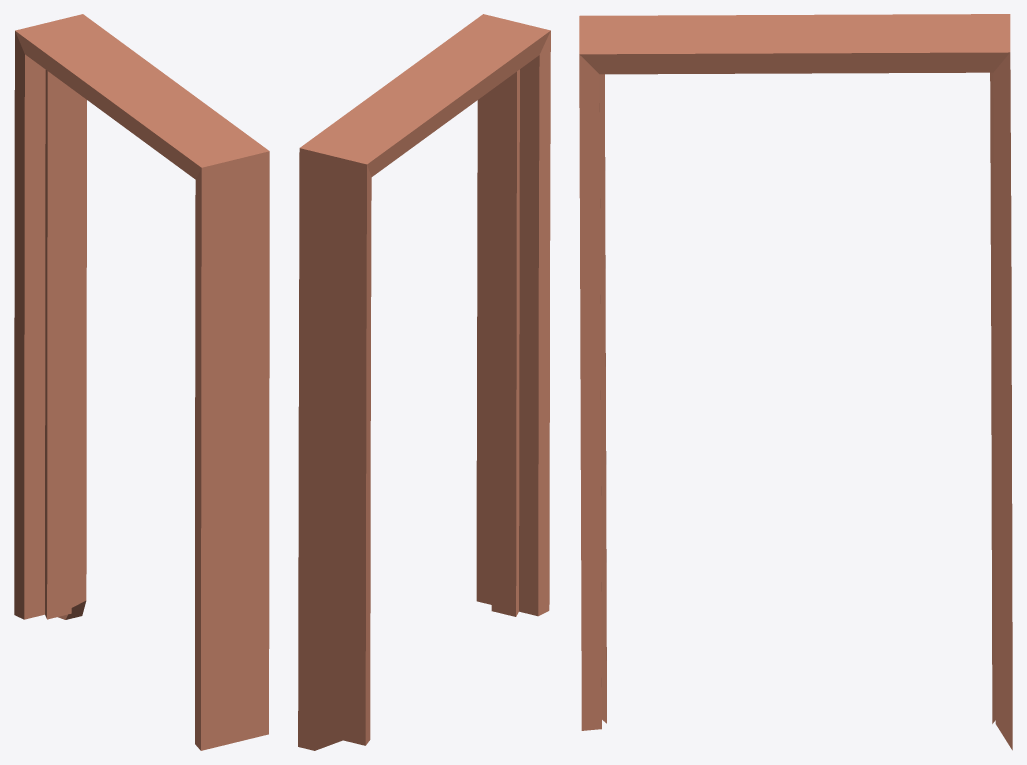
The model's file is косяк двери.fbx.
3 views of the same model, side by side, from view 1: azimuth 30°, elevation 25°; view 2: azimuth 150°, elevation 25°; view 3: azimuth 270°, elevation 25° (orthographic). The views are drawn at different scales.
Parts seen in each view (by area): view 1: опора.002; view 2: опора.002; view 3: опора.002.
Part boxes in pixels (<box>): опора.002: <box>14,14,269,750</box>; опора.002: <box>298,14,550,750</box>; опора.002: <box>579,14,1012,750</box>.
Bounding box in the file's own units: 256 × 2129 × 1198.
